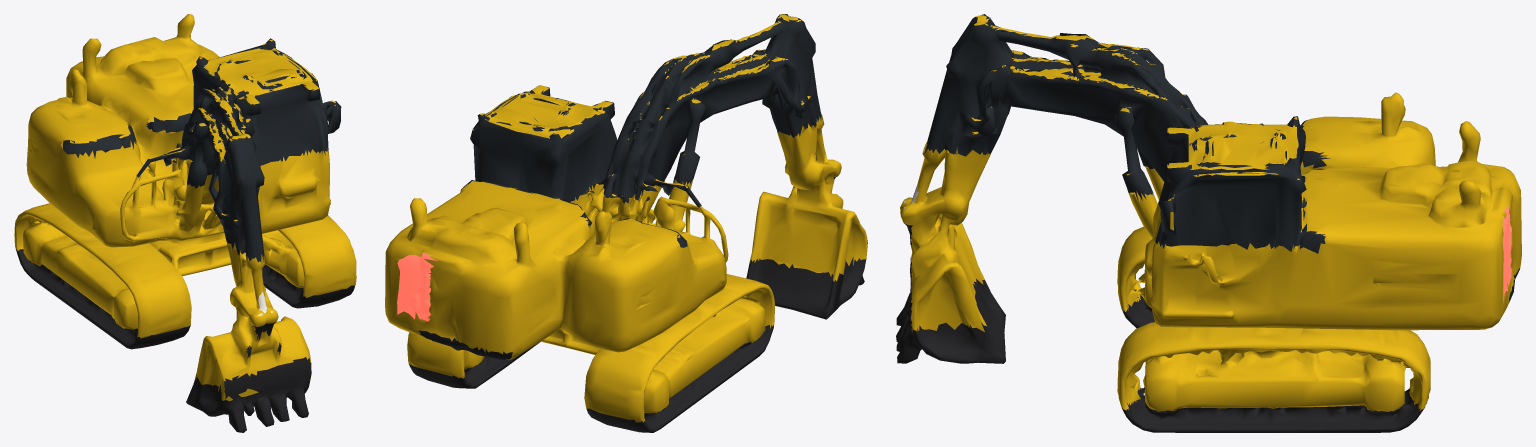
File: Excavator.fbx
The picture shows the model from 3 angles, left to right: view 1: azimuth 30°, elevation 25°; view 2: azimuth 150°, elevation 25°; view 3: azimuth 270°, elevation 25°; orthographic projection. The views are drawn at different scales.
Parts seen in each view (by area): view 1: Body_Paint, Glass, Body_Trim; view 2: Body_Paint, Glass, Body_Trim, LightsRear; view 3: Body_Paint, Glass, Body_Trim, LightsRear.
Boxes of the visible parts, x1=… form: Body_Paint: x1=14, y1=14, x2=356, y2=401; Glass: x1=63, y1=38, x2=341, y2=262; Body_Trim: x1=16, y1=249, x2=355, y2=432; Body_Paint: x1=385, y1=14, x2=867, y2=422; Glass: x1=461, y1=14, x2=821, y2=247; Body_Trim: x1=409, y1=176, x2=867, y2=432; LightsRear: x1=397, y1=252, x2=437, y2=321; Body_Paint: x1=900, y1=15, x2=1521, y2=411; Glass: x1=924, y1=14, x2=1330, y2=253; Body_Trim: x1=896, y1=224, x2=1519, y2=432; LightsRear: x1=1502, y1=204, x2=1512, y2=301.
Size of the model in its own units: 1736 by 1955 by 3400.
